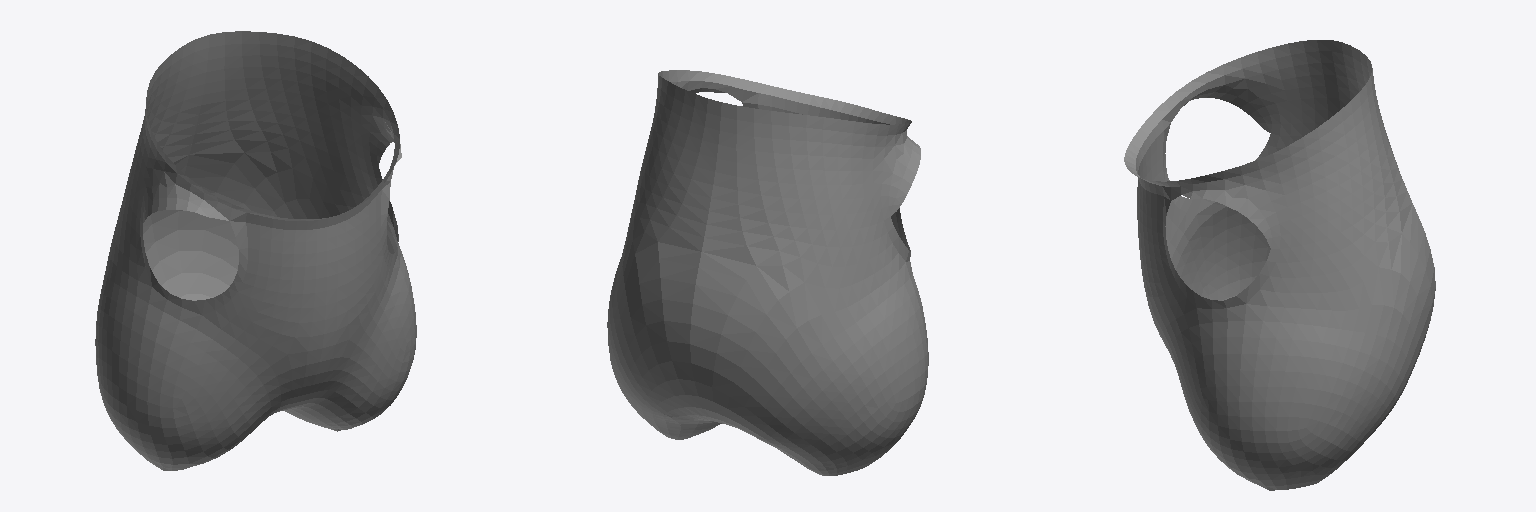
Rendered from cuerpoPicachu.obj.
The picture shows the model from 3 angles: view 1: azimuth 30°, elevation 25°; view 2: azimuth 150°, elevation 25°; view 3: azimuth 270°, elevation 25°; orthographic projection.
Visible parts, largest first — view 1: picachu; view 2: picachu; view 3: picachu.
Boxes of the visible parts, box(x1,y1,x2,y2) form: picachu: box(95, 31, 416, 470); picachu: box(607, 70, 928, 475); picachu: box(1124, 40, 1435, 490).
Bounding box in the file's own units: 2.44 × 3.01 × 2.27.